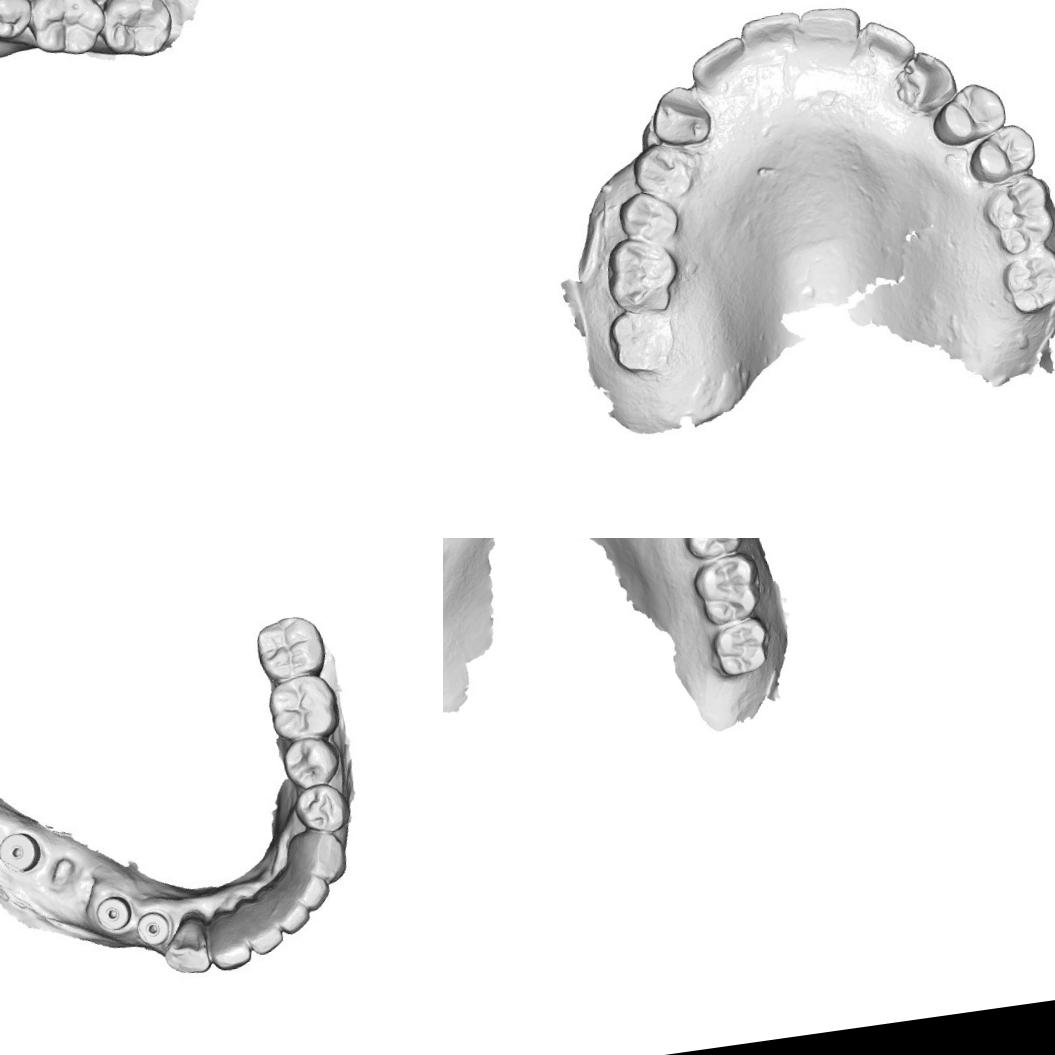canine: (646, 82, 714, 148), (158, 912, 216, 979), (287, 824, 350, 883), (902, 48, 958, 112)
implant: (0, 824, 45, 880), (90, 888, 136, 939), (130, 909, 172, 950)
incisor: (796, 3, 861, 56), (205, 906, 256, 970), (689, 38, 748, 90), (236, 896, 286, 956), (739, 12, 799, 59), (276, 862, 333, 910), (859, 22, 914, 71), (262, 882, 312, 934)
molar: (605, 235, 683, 316), (979, 172, 1055, 255), (688, 550, 766, 626), (266, 671, 339, 742), (604, 304, 674, 376), (705, 616, 778, 683), (100, 0, 177, 63), (24, 0, 106, 57), (257, 614, 324, 682), (996, 246, 1055, 316)
premolar: (926, 78, 1013, 152), (962, 120, 1041, 186), (610, 190, 677, 249), (632, 142, 692, 204), (283, 732, 341, 789), (296, 782, 356, 832), (680, 538, 746, 563), (0, 0, 29, 37)
